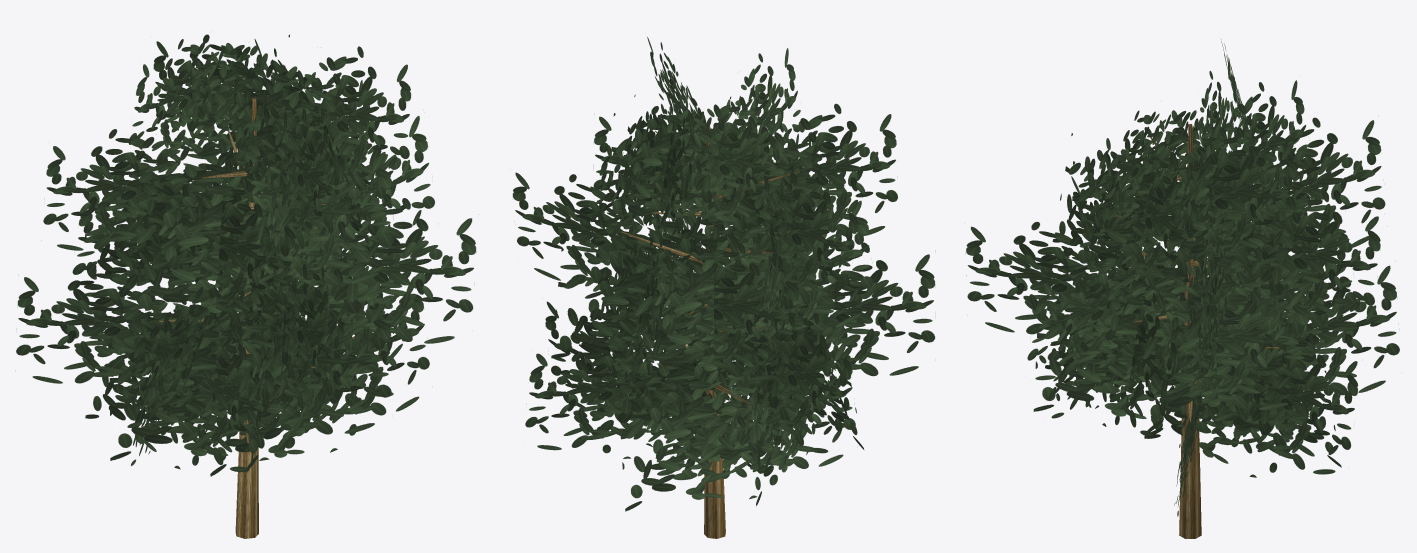
File: tree-lod.glb
The picture shows the model from 3 angles, left to right: view 1: azimuth 30°, elevation 25°; view 2: azimuth 150°, elevation 25°; view 3: azimuth 270°, elevation 25°; orthographic projection. The views are drawn at different scales.
Parts seen in each view (by area): view 1: Distant foliage, Bark; view 2: Distant foliage, Bark; view 3: Distant foliage, Bark.
Part boxes in pixels (box(x1,y1,x2,y2)): Distant foliage: box(16, 34, 478, 476); Bark: box(159, 97, 355, 538); Distant foliage: box(512, 37, 935, 511); Bark: box(621, 127, 799, 538); Distant foliage: box(965, 39, 1399, 516); Bark: box(1114, 124, 1279, 538).
Size of the model in its own units: 6.36 by 7.76 by 6.44.
2 materials, 2 textured.
